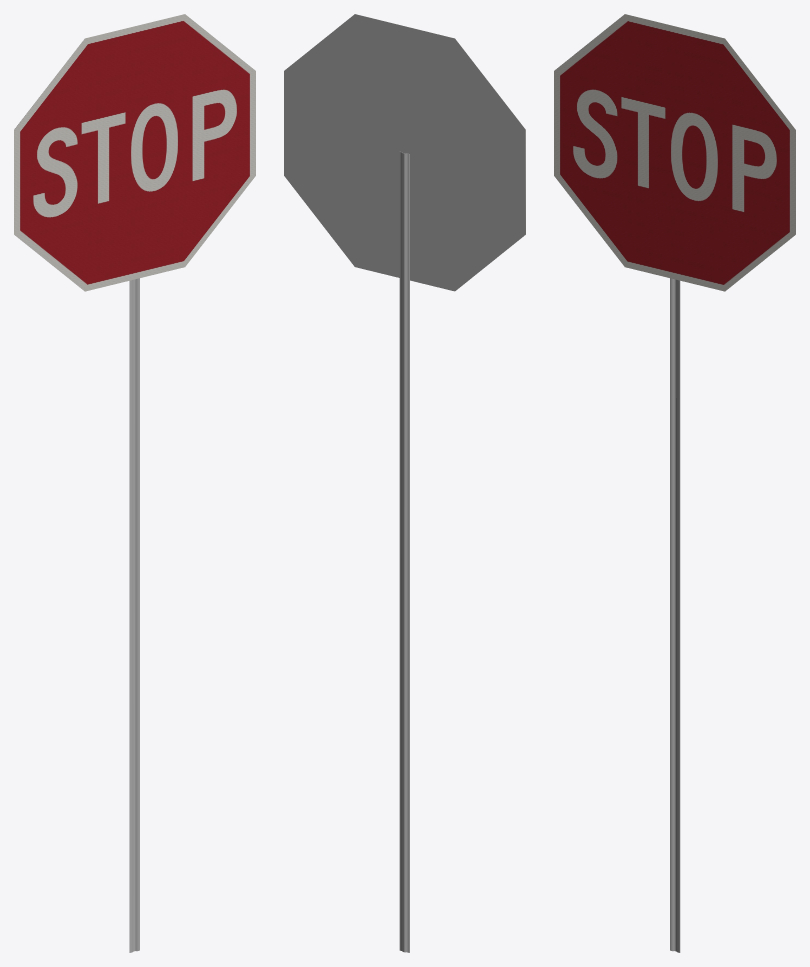
File: StopSign.FBX
3 renders of one model, left to right at view 1: azimuth 30°, elevation 25°; view 2: azimuth 150°, elevation 25°; view 3: azimuth 330°, elevation 25°, orthographic.
Parts seen in each view (by area): view 1: StopSign; view 2: StopSign; view 3: StopSign.
Boxes of the visible parts, bbox=[...] form: StopSign: bbox=[14, 14, 255, 952]; StopSign: bbox=[284, 14, 525, 952]; StopSign: bbox=[554, 14, 795, 952].
Size of the model in its own units: 3.64 by 13.3 by 0.0276.
